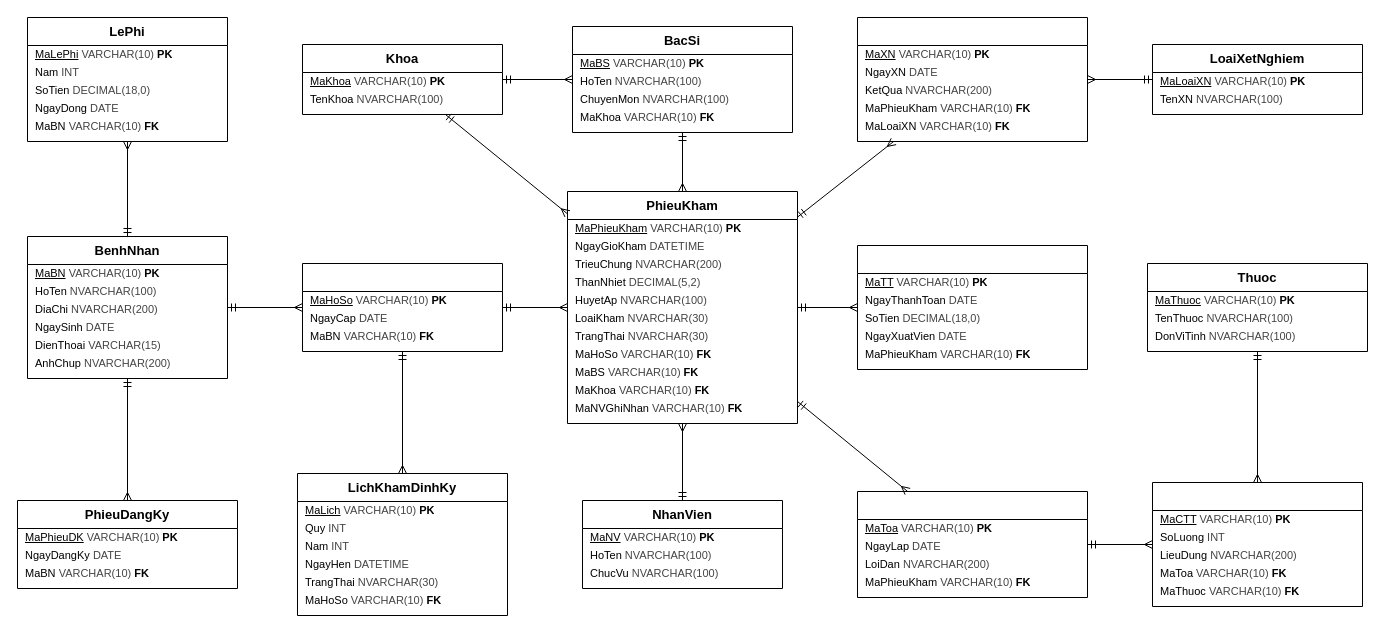
The diagram is 1385 pixels wide and 633 high, and some of its shapes have lost their labels. Each missing label, with the box of its shape:
ChiTietToaThuoc: (1152, 482, 1362, 606)
HoSoBenhAn: (302, 262, 502, 352)
ThanhToanVienPhi: (856, 244, 1088, 370)
ToaThuoc: (856, 490, 1088, 598)
XetNghiem: (856, 16, 1088, 142)
